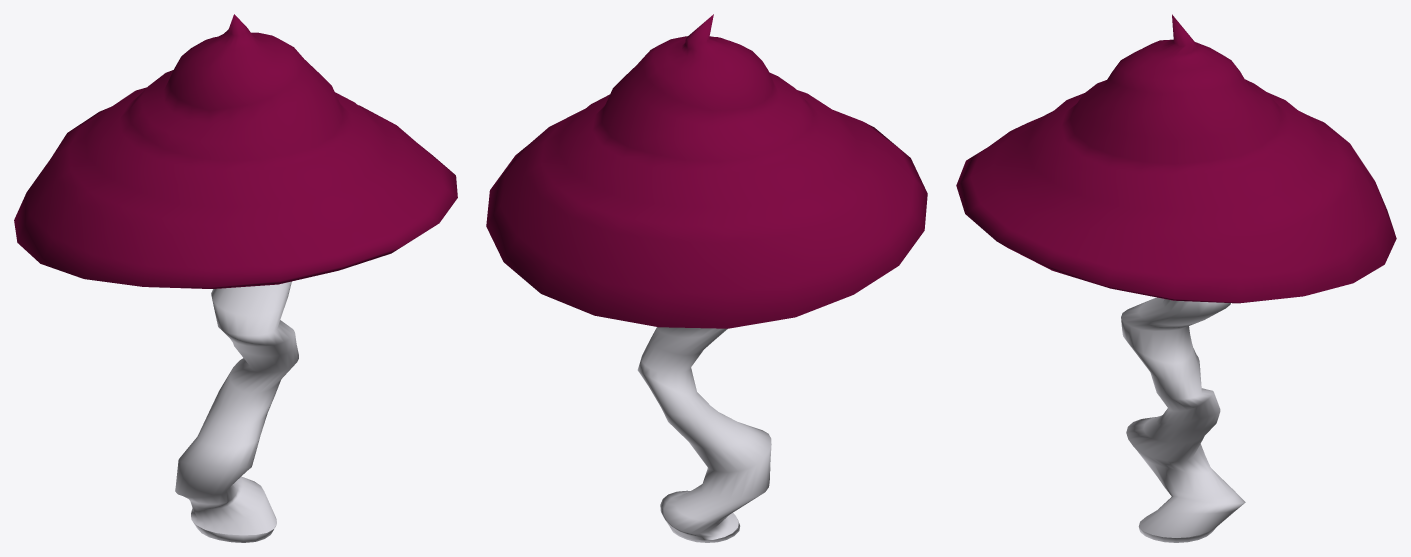
The model's file is mushroomJan.fbx.
The picture shows the model from 3 angles, left to right: view 1: azimuth 30°, elevation 25°; view 2: azimuth 150°, elevation 25°; view 3: azimuth 270°, elevation 25°; orthographic projection.
Visible parts, largest first — view 1: mushroom; view 2: mushroom; view 3: mushroom.
Boxes of the visible parts, x1,y1,x2,y2 form: mushroom: [14, 14, 457, 542]; mushroom: [486, 14, 927, 542]; mushroom: [956, 14, 1396, 542].
Bounding box in the file's own units: 5.34 × 6.76 × 5.28.
